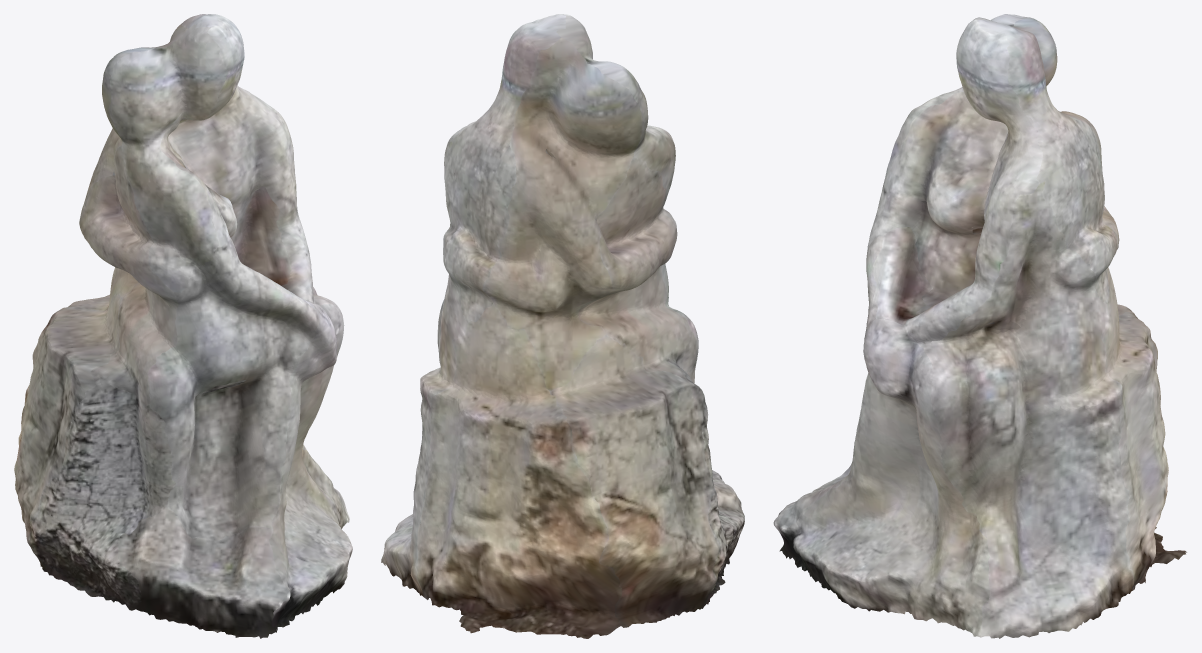
File: preview.glb
The picture shows the model from 3 angles, left to right: view 1: azimuth 30°, elevation 25°; view 2: azimuth 150°, elevation 25°; view 3: azimuth 270°, elevation 25°; orthographic projection. The views are drawn at different scales.
Visible parts, largest first — view 1: Object_2; view 2: Object_2; view 3: Object_2.
Part boxes in pixels (bbox=[...]): Object_2: bbox=[14, 14, 352, 638]; Object_2: bbox=[381, 14, 744, 638]; Object_2: bbox=[773, 14, 1186, 638].
Size of the model in its own units: 14.33 by 23.55 by 16.01.
1 material, 1 textured.
